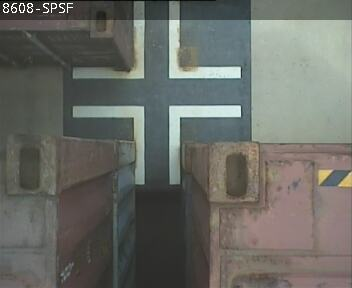groundmarker_1: (72, 105, 240, 184), (72, 1, 240, 78)
